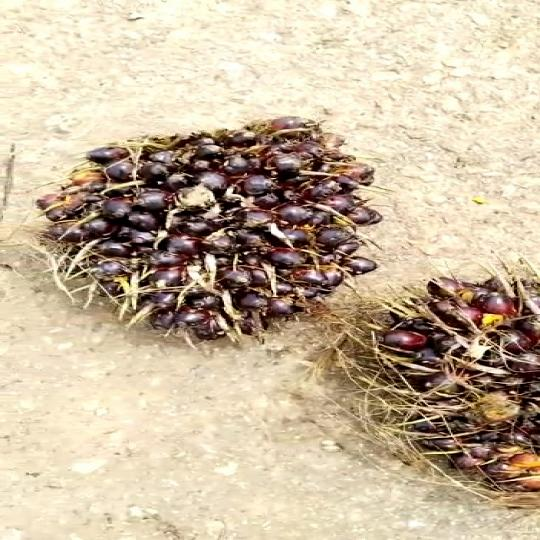kurang masak: (47, 100, 391, 342), (325, 272, 540, 492)
